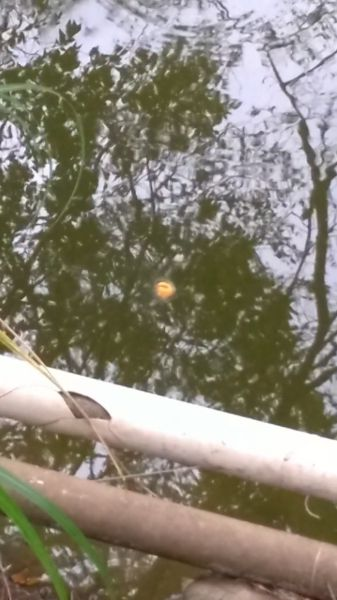eggs: (153, 276, 177, 303)
